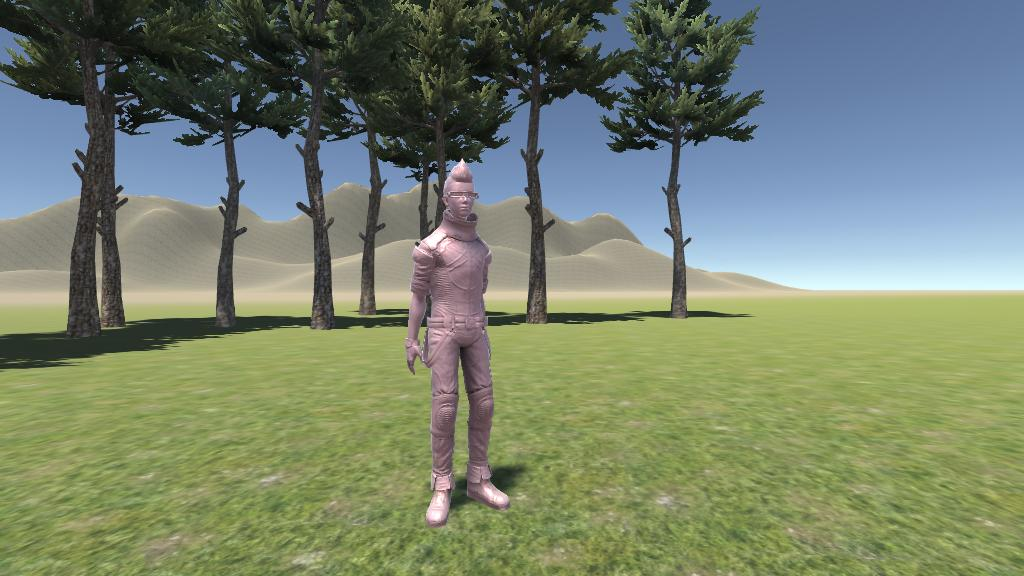ethan: (401, 155, 514, 530)
